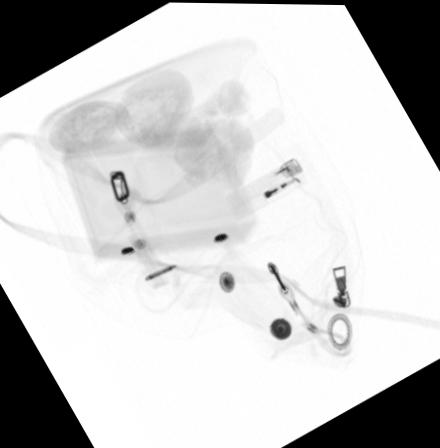Lighter: (223, 156, 306, 220)
